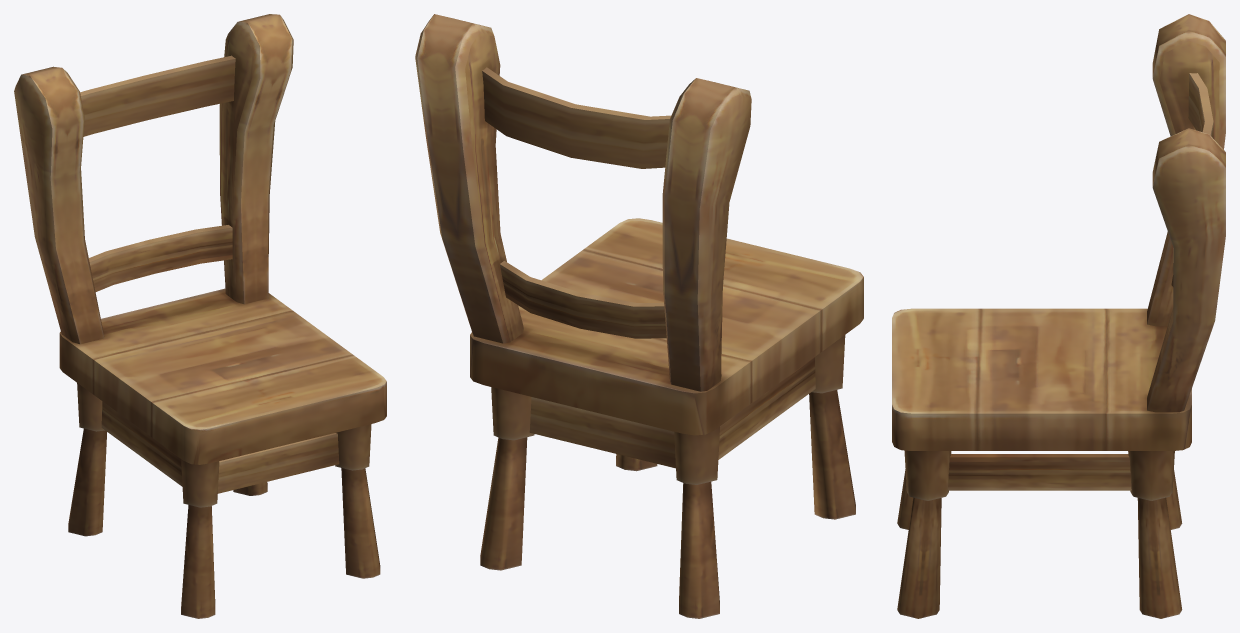
Rendered from CountryChair_HD.fbx.
The picture shows the model from 3 angles, left to right: view 1: azimuth 30°, elevation 25°; view 2: azimuth 150°, elevation 25°; view 3: azimuth 270°, elevation 25°; orthographic projection. The views are drawn at different scales.
Parts seen in each view (by area): view 1: CountryChair; view 2: CountryChair; view 3: CountryChair.
Boxes of the visible parts, <box> form: CountryChair: <box>14,14,386,618</box>; CountryChair: <box>415,14,863,618</box>; CountryChair: <box>892,14,1225,618</box>.
Size of the model in its own units: 0.5506 by 0.9237 by 0.5738.
1 material, 1 textured.
